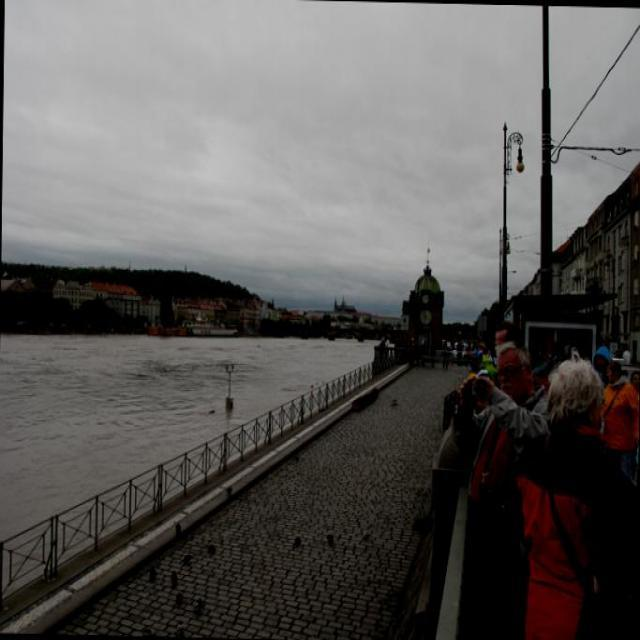flood: (0, 323, 375, 547)
